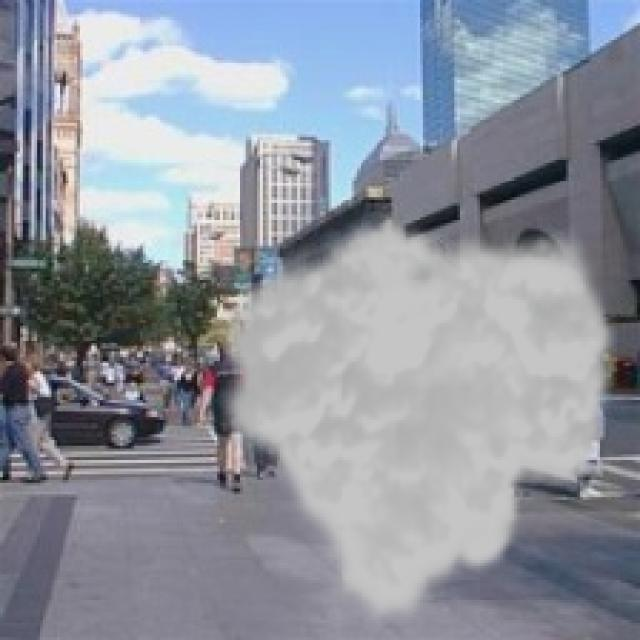Smoke: (208, 217, 623, 632)
